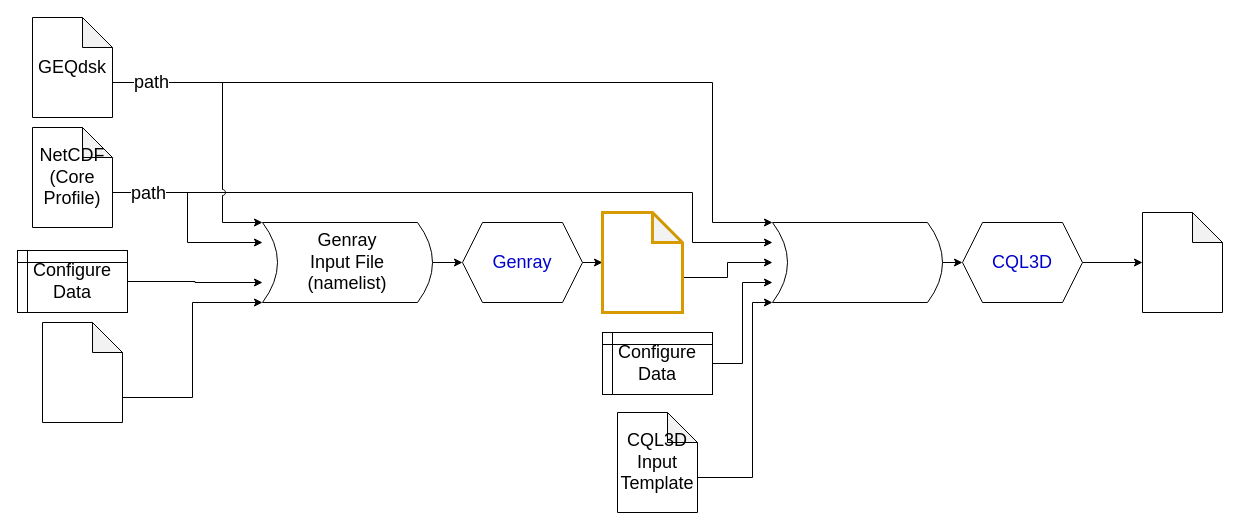
Some shapes in this 1240 by 530 pixel diagram are drawn without their labels. The shapes that lost their labels are listed below. From the top down, each one's centre as x and y in pixels, then its label:
the point at 642,262: Genray Output (netcdf)
the point at 857,262: CQL3D Input File (namelist)
the point at 1182,262: CQL3D Output (netcdf)
the point at 82,372: Genray Input Template
